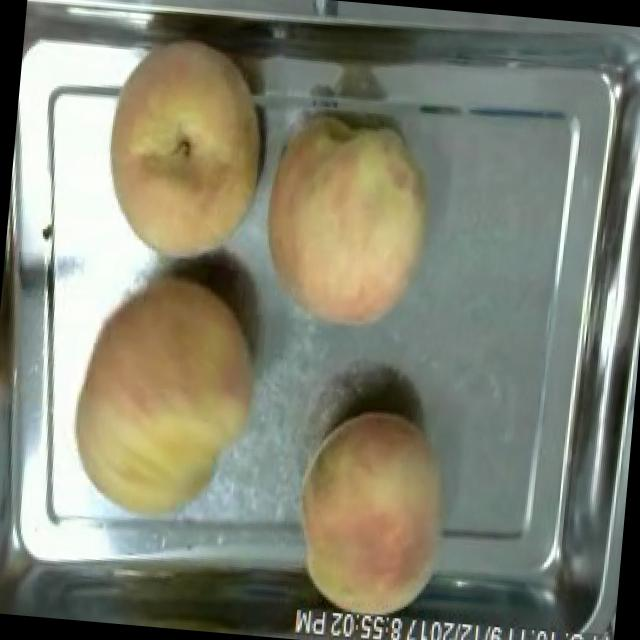Fruit: (49, 258, 274, 536), (88, 21, 290, 276), (243, 106, 446, 345), (280, 398, 462, 634)
